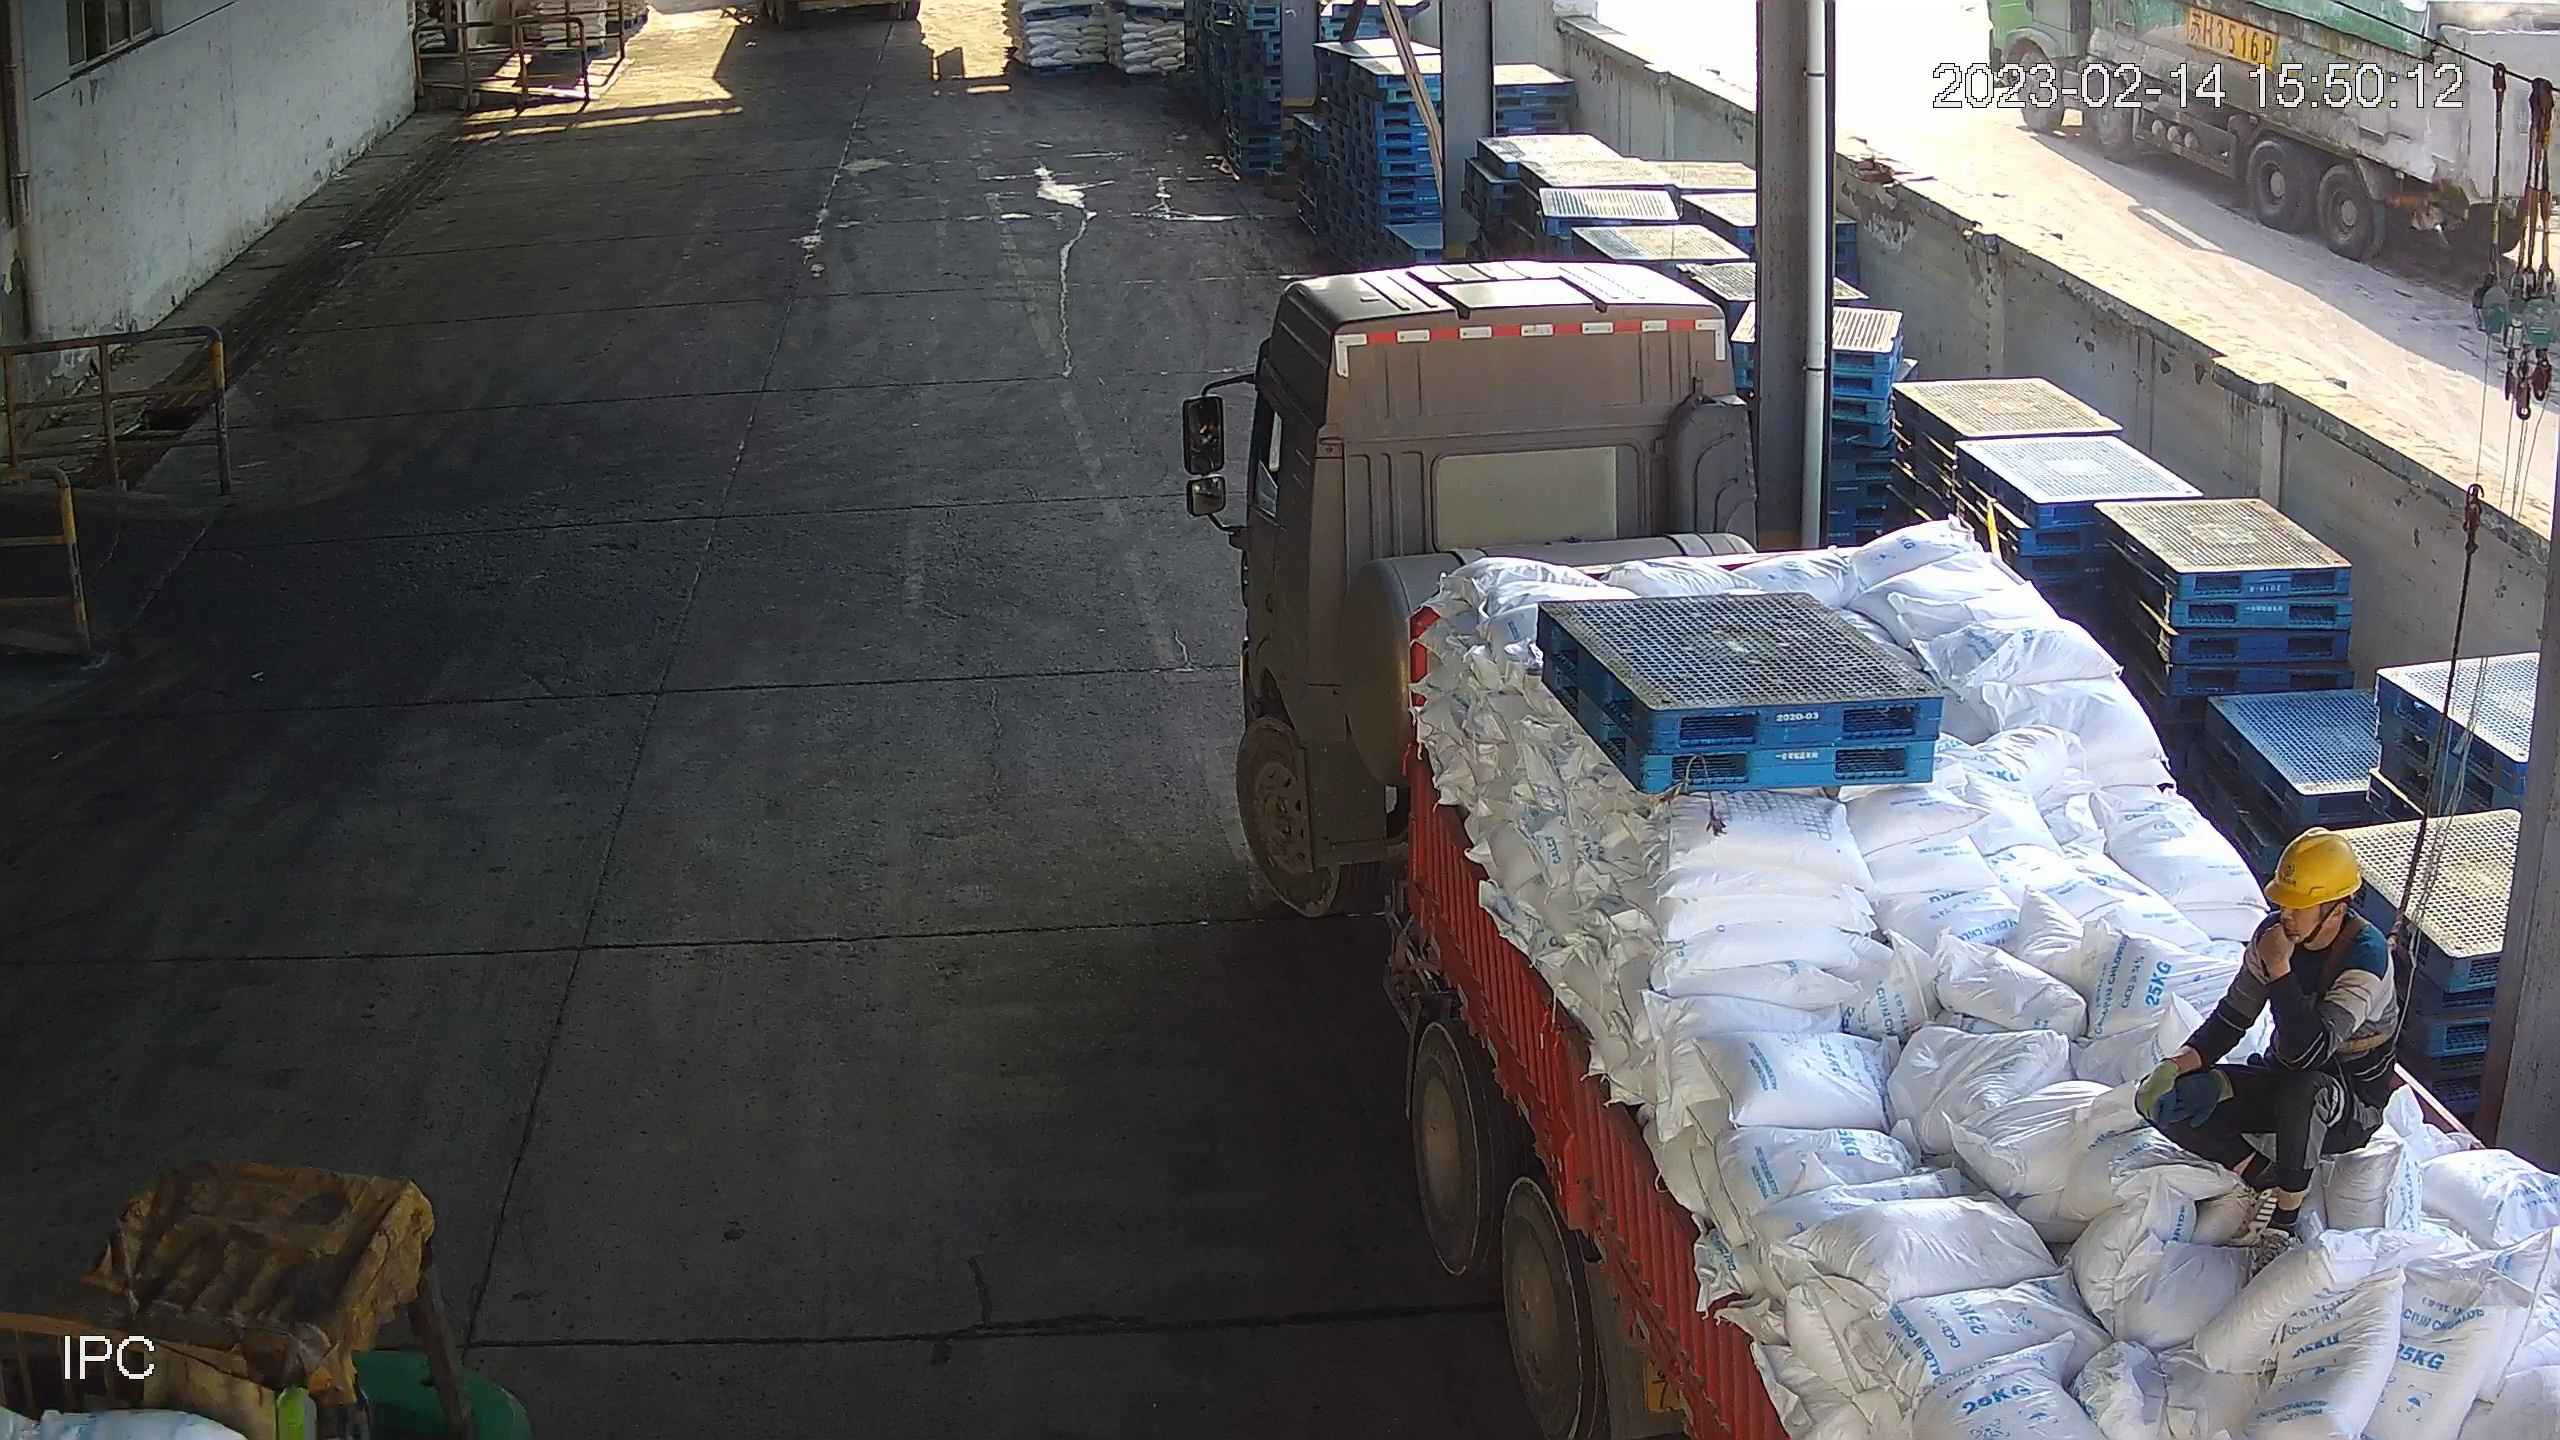belt: (2267, 916, 2414, 1053)
head: (2241, 825, 2394, 970)
helmet: (2262, 826, 2362, 910)
people: (2133, 828, 2401, 1273)
truck: (1233, 255, 2560, 1440)
